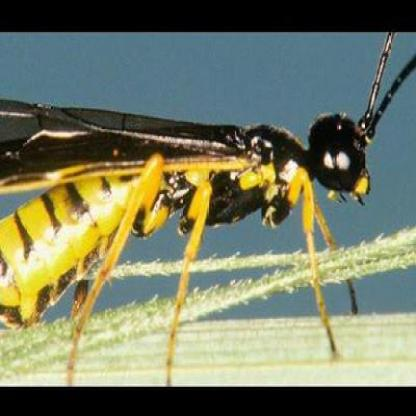sawfly: (1, 31, 416, 387)
